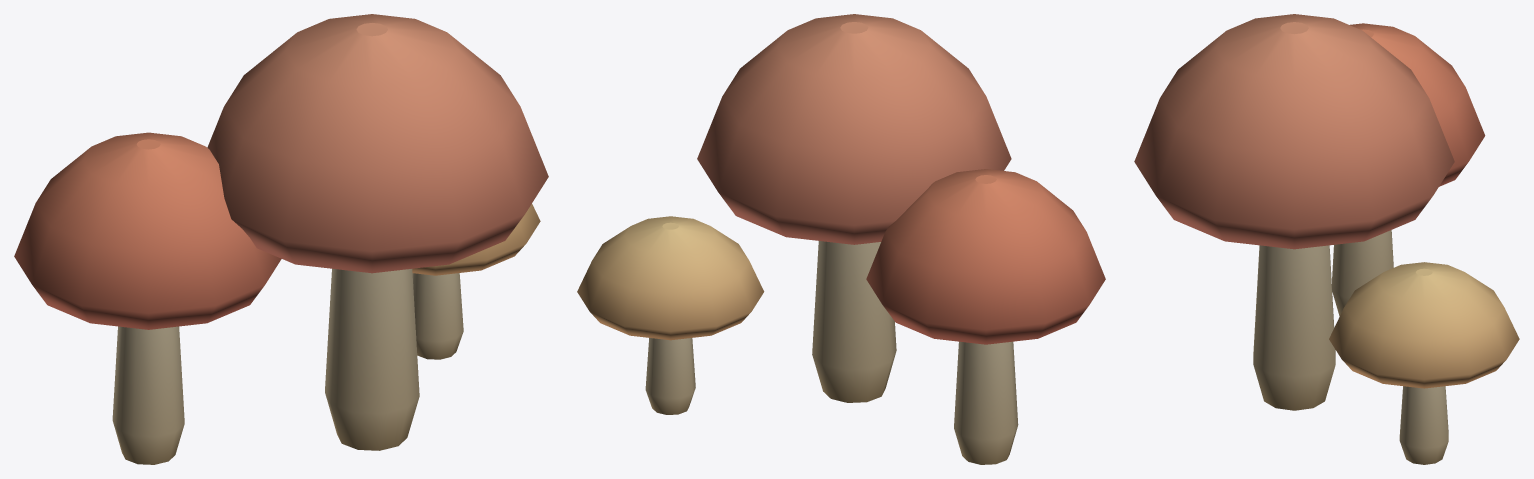
File: Origin_Coral_Mushroom_Cluster.glb
3 views of the same model, side by side, from view 1: azimuth 30°, elevation 25°; view 2: azimuth 150°, elevation 25°; view 3: azimuth 270°, elevation 25° (orthographic). The views are drawn at different scales.
Visible parts, largest first — view 1: Origin_Coral_Mushroom_Cluster; view 2: Origin_Coral_Mushroom_Cluster; view 3: Origin_Coral_Mushroom_Cluster.
Part boxes in pixels (x1,y1,x2,y2): Origin_Coral_Mushroom_Cluster: (14, 14, 548, 464); Origin_Coral_Mushroom_Cluster: (577, 14, 1105, 464); Origin_Coral_Mushroom_Cluster: (1134, 14, 1519, 464).
Size of the model in its own units: 0.725 by 0.5336 by 0.505.
